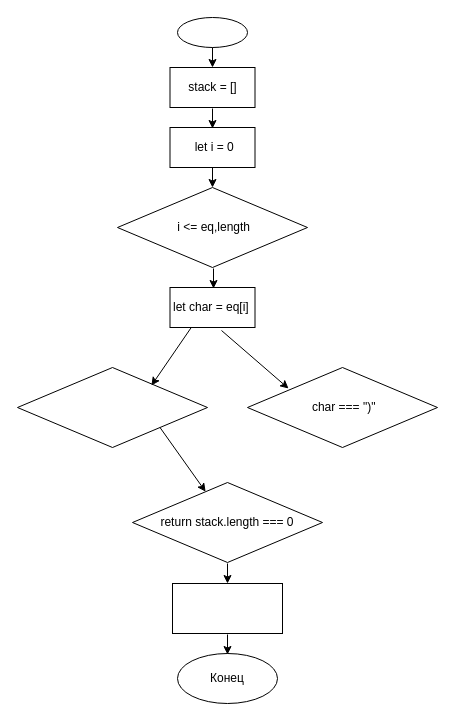
Some shapes in this 455 by 721 pixel diagram are drawn without their labels. Each missing label, with the box of its shape:
char === "(": (16, 366, 208, 448)
stack.push(char): (172, 582, 282, 634)
Начало: (176, 16, 248, 48)
